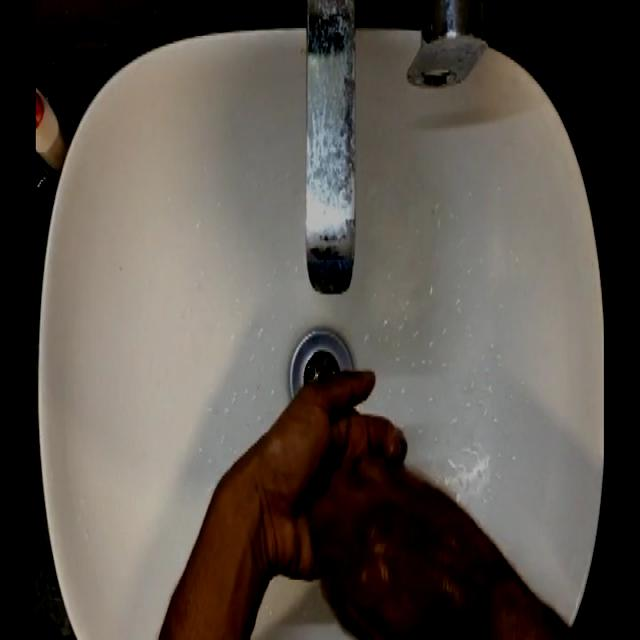step_4: (257, 388, 486, 602)
